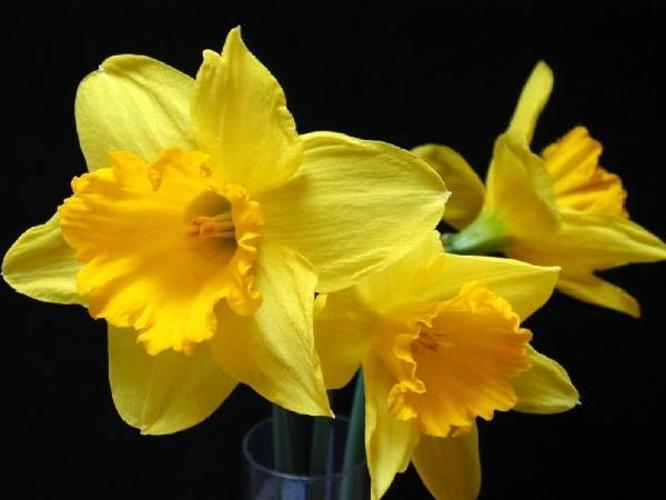flower1: (5, 42, 451, 438)
